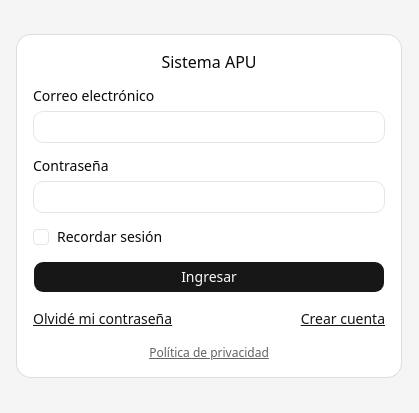
Scenario: LoginPage › muestra enlace de reenvío para email no verificado
The image size is (419, 413).
Type "ana@ejemplo.ec" into the field labelled "Correo electrónico" at [209, 127], box x1=33 y1=111 x2=385 y2=143
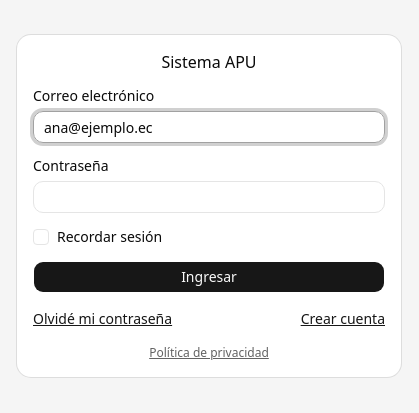
Type "abc12345" into the password field labelled "Contraseña" at [209, 197], box x1=33 y1=181 x2=385 y2=213
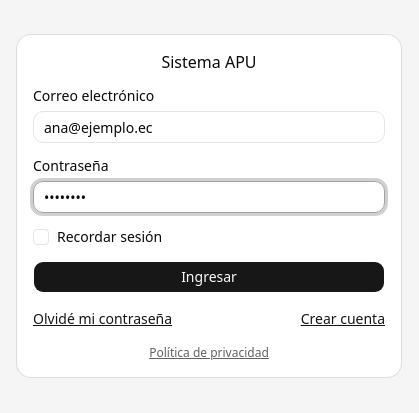
Click the button "Ingresar" at [209, 277], box x1=33 y1=261 x2=385 y2=293
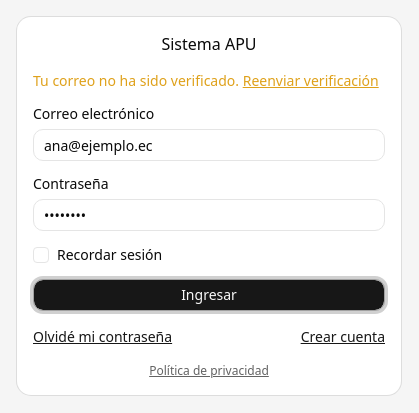
Expected: the text "Tu correo no ha sido verificado. Reenviar verificación" is shown, x1=33 y1=71 x2=385 y2=91
